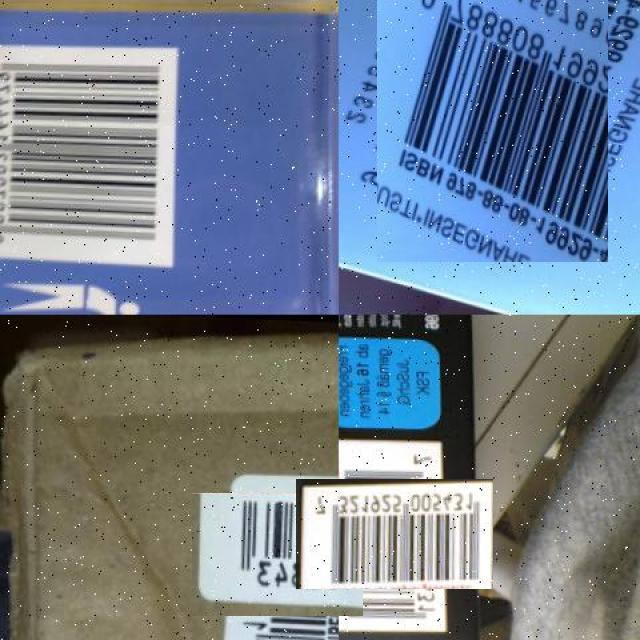Barcode: (361, 0, 623, 247), (0, 38, 176, 266), (317, 457, 471, 611), (204, 480, 351, 628)
